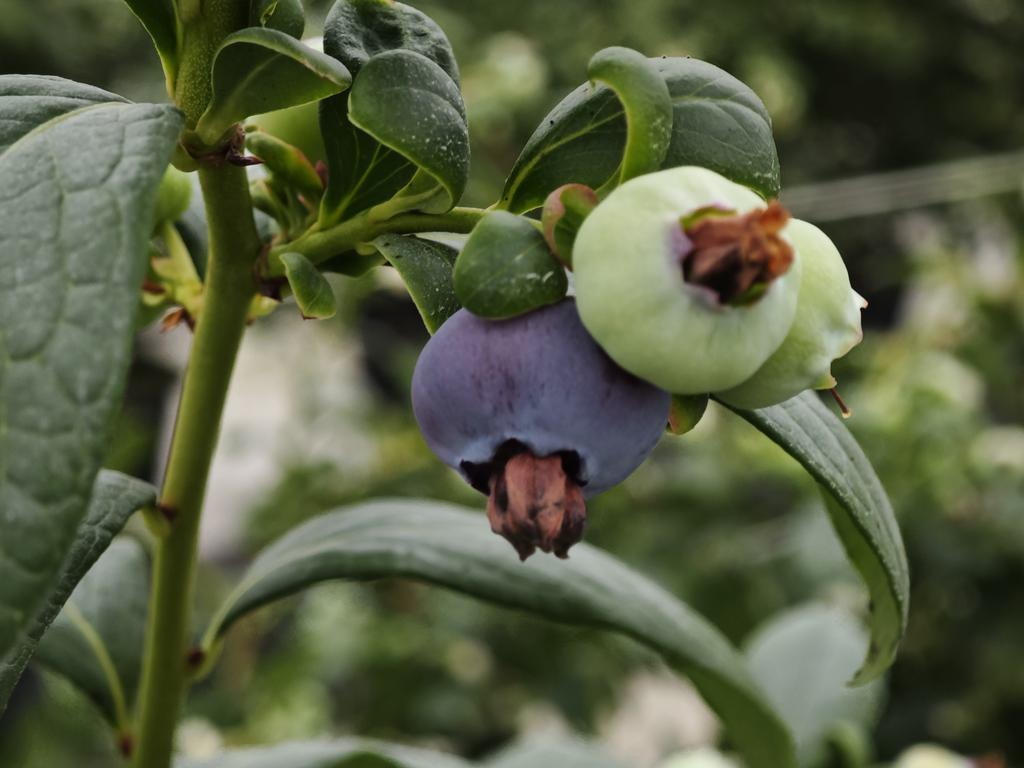RipeBlueBerry: (407, 298, 673, 502)
UnripeBlueBerry: (571, 162, 804, 399)
